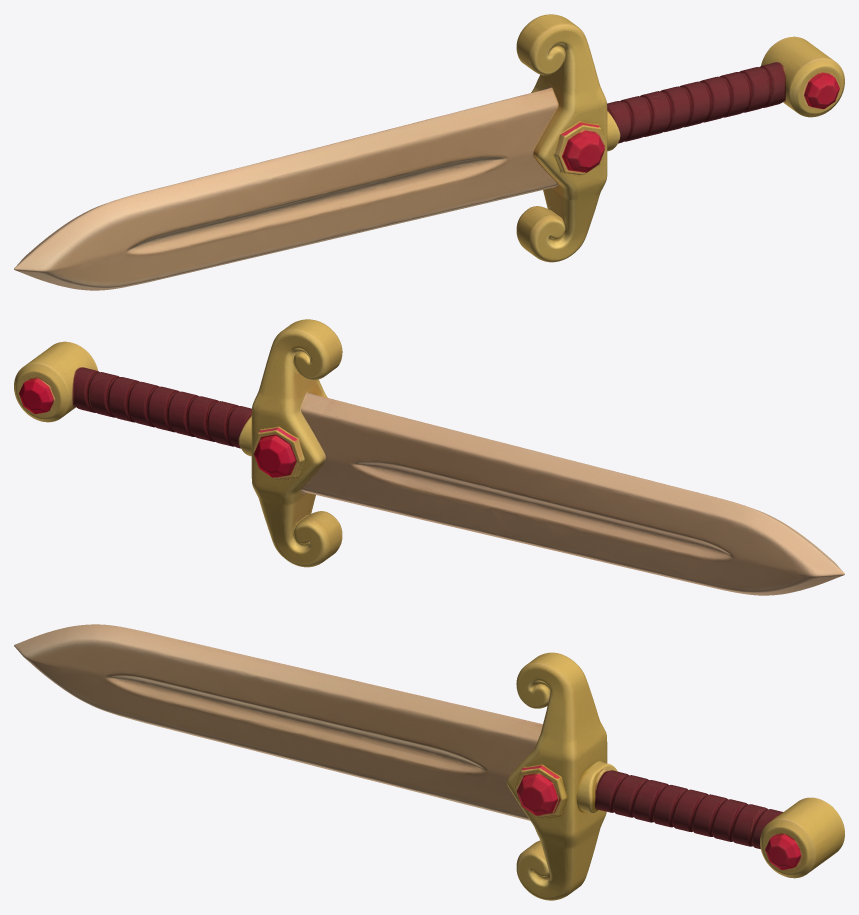
The model's file is master_greatsword.glb.
3 views of the same model, one above another, from view 1: azimuth 30°, elevation 25°; view 2: azimuth 150°, elevation 25°; view 3: azimuth 330°, elevation 25° (orthographic).
Size of the model in its own units: 1.9 by 0.5278 by 0.2323.
1 material, 1 textured.
